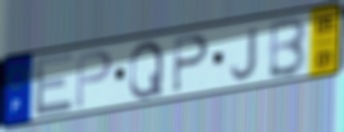B: (266, 14, 309, 80)
E: (33, 50, 75, 120)
J: (229, 24, 262, 82)
P: (170, 32, 211, 95), (74, 48, 114, 111)
Q: (127, 39, 166, 101)
